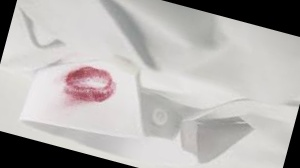lipstick: (63, 64, 121, 110)
